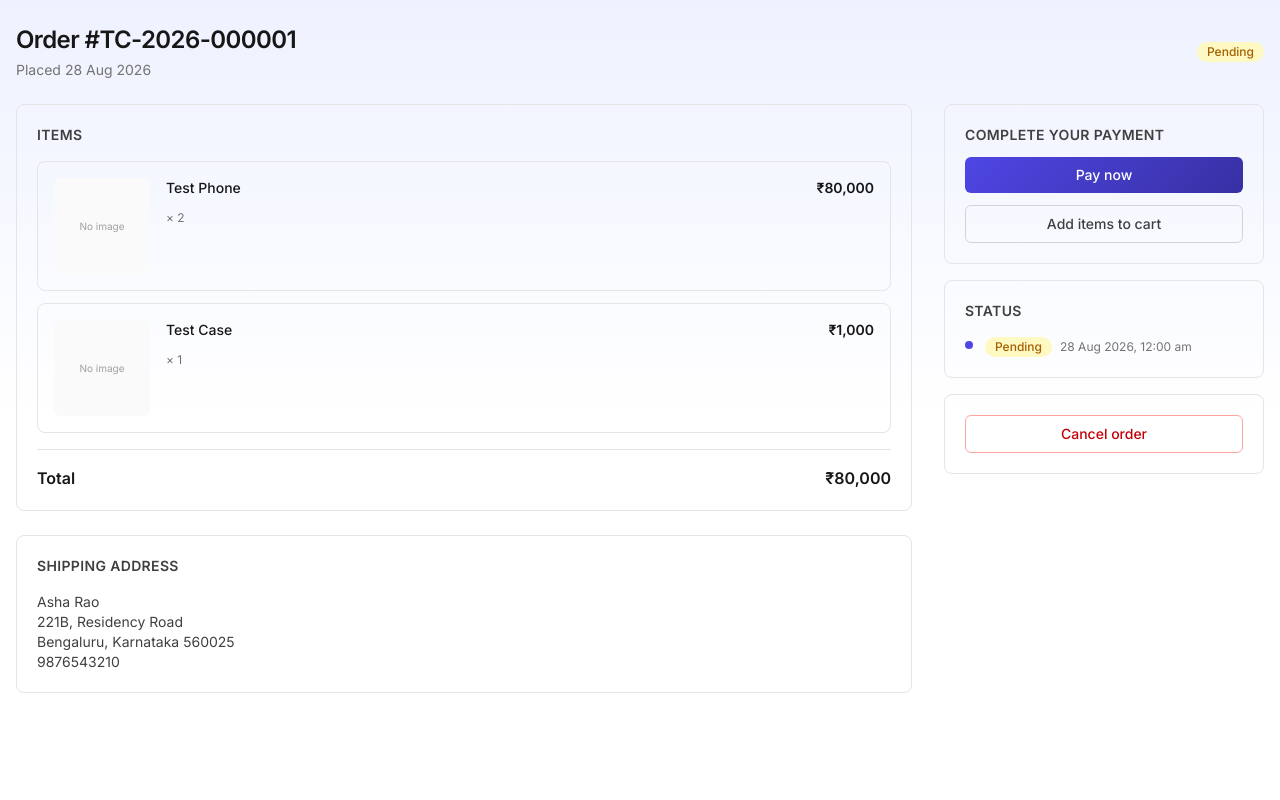
Scenario: Order detail › clicking Add items to cart adds every line to the cart, cancels the order, and stays on the order page
The width and height of the screenshot is (1280, 800).
Click the button "Add items to cart" at (1104, 224), box [965,205,1243,243]
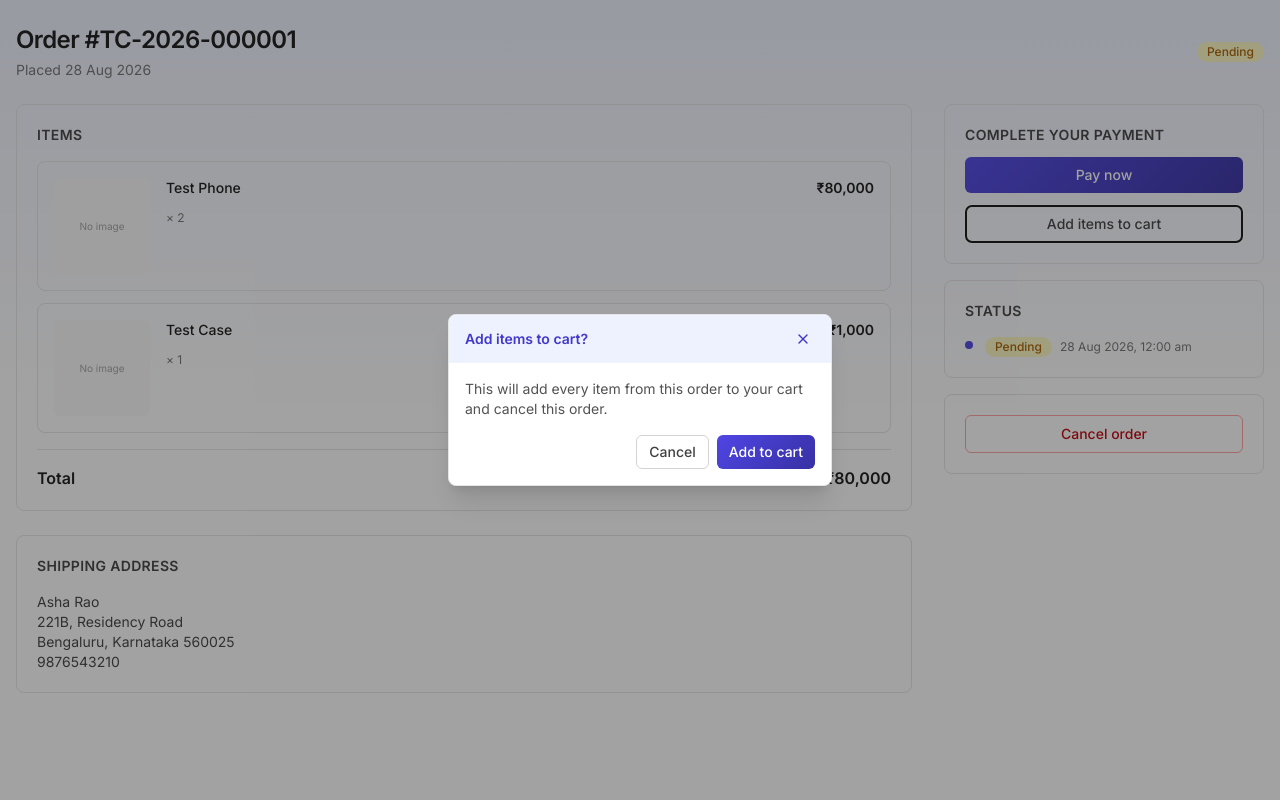
Click the button "Add to cart" at (766, 452), box [717,435,815,469]
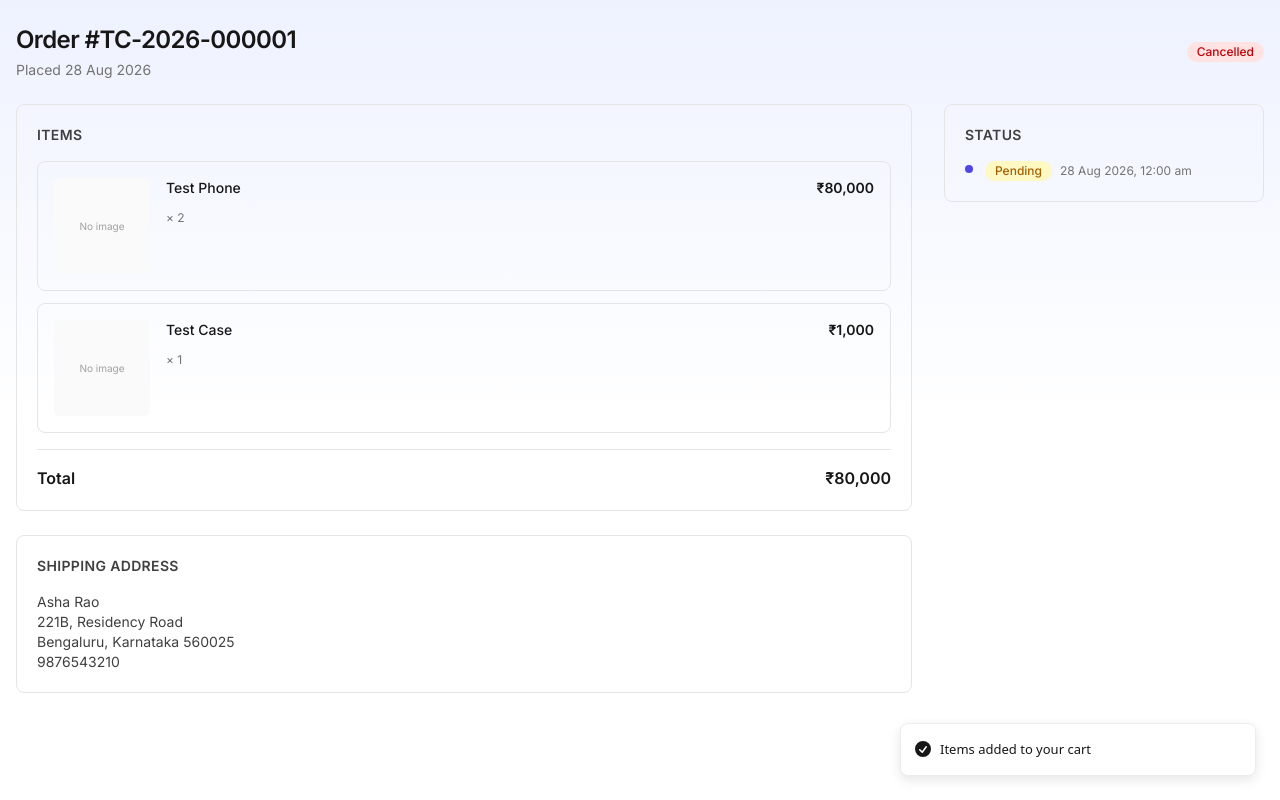
Result: the text "Items added to your cart" is shown at [940,740,1091,759]
